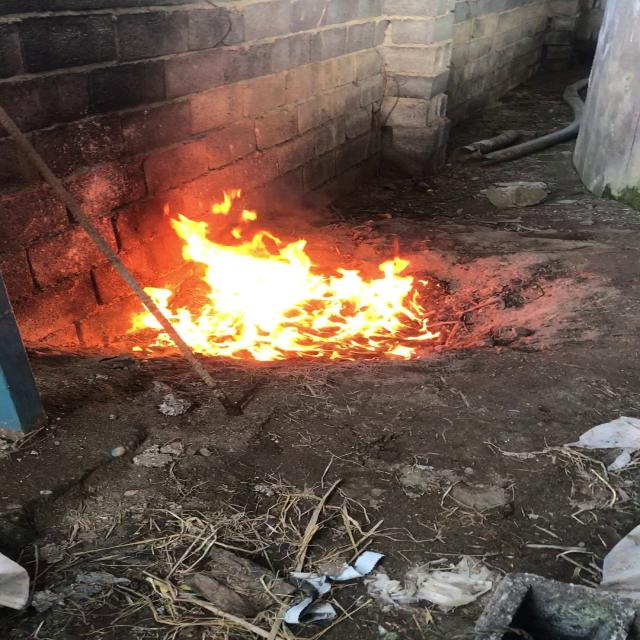fire: (103, 220, 450, 367)
